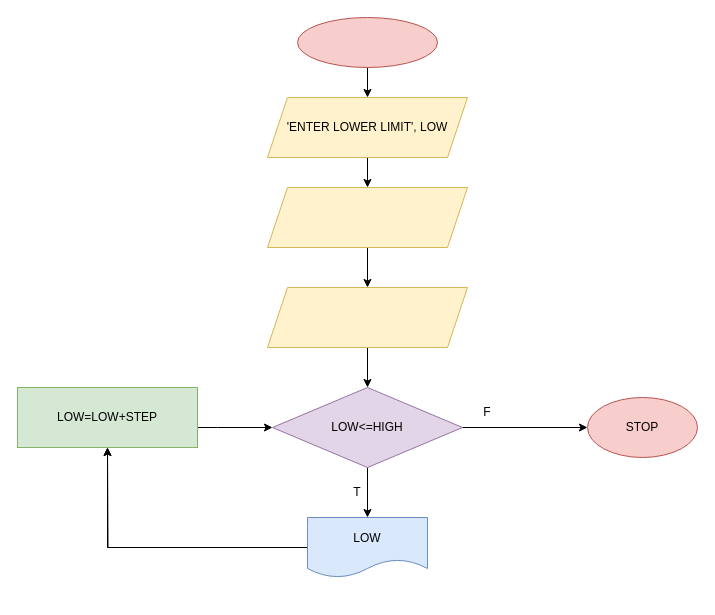
Image size: 715x615. Some labels were removed from this diagram. Here are the shapes that lost their labels. From the top down, the centre of each, then its label:
At point (367, 42): "START".
At point (367, 217): "'ENTER HIGHER LIMIT ', HIGH".
At point (367, 317): "STEP NUMBER".
